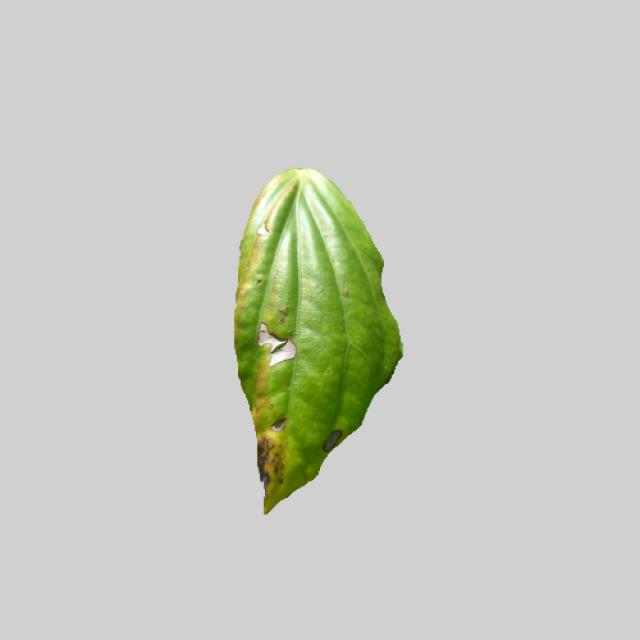yellow-mottle-virus: (224, 161, 407, 512)
